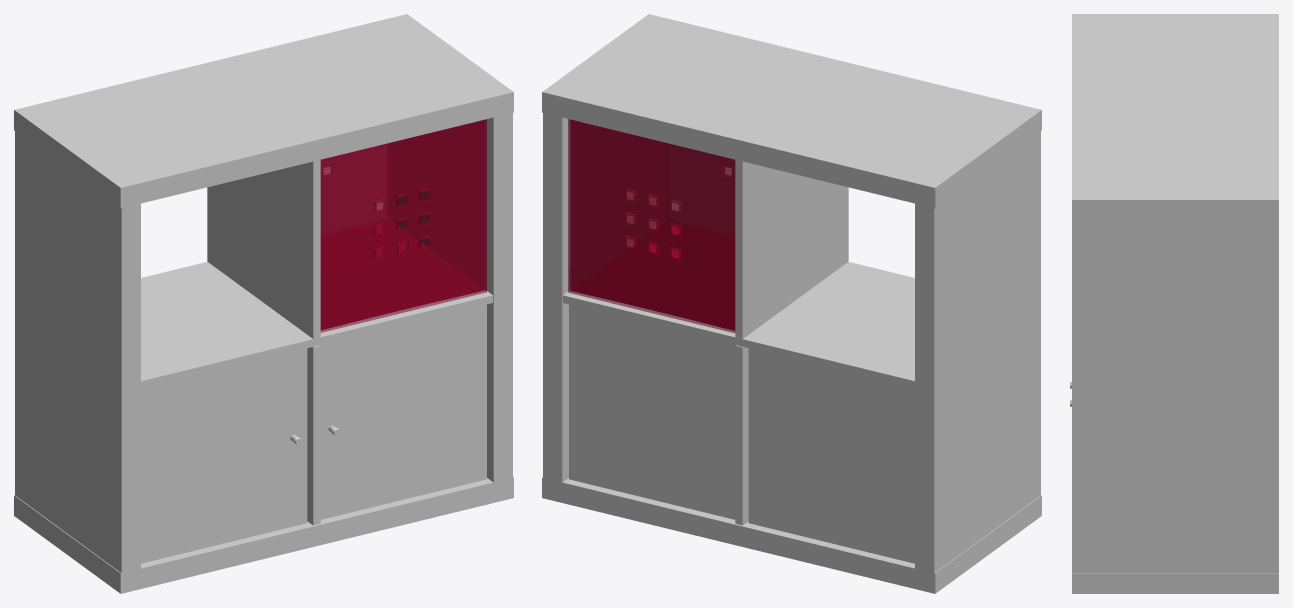
Rendered from sweethome3d-blendswap-cc-0-shelves.glb.
3 views of the same model, side by side, from view 1: azimuth 30°, elevation 25°; view 2: azimuth 150°, elevation 25°; view 3: azimuth 270°, elevation 25° (orthographic). The views are drawn at different scales.
Parts seen in each view (by area): view 1: Cube.009_Cube.010, Cube.010_Cube.011, Cube.020_Cube.021, Cube.017_Cube.016, Cube.018, Cube.012_Cube.013, Cube.013_Cube.014, Cube.008_Cube.009, Cube.011_Cube.012, Cube.014_Cube.015; view 2: Cube.009_Cube.010, Cube.010_Cube.011, Cube.020_Cube.021, Cube.017_Cube.016, Cube.018, Cube.012_Cube.013, Cube.013_Cube.014, Cube.008_Cube.009, Cube.011_Cube.012, Cube.014_Cube.015; view 3: Cube.011_Cube.012, Cube.009_Cube.010, Cube.008_Cube.009.
Boxes of the visible parts, x1,y1,x2,y2 form: Cube.009_Cube.010: [14, 14, 513, 208]; Cube.010_Cube.011: [15, 131, 140, 573]; Cube.020_Cube.021: [320, 304, 486, 519]; Cube.017_Cube.016: [141, 348, 307, 563]; Cube.018: [320, 119, 486, 332]; Cube.012_Cube.013: [141, 227, 492, 388]; Cube.013_Cube.014: [207, 160, 320, 338]; Cube.008_Cube.009: [14, 477, 513, 593]; Cube.011_Cube.012: [399, 111, 512, 482]; Cube.014_Cube.015: [307, 345, 320, 525]; Cube.009_Cube.010: [542, 14, 1041, 208]; Cube.010_Cube.011: [915, 131, 1040, 573]; Cube.020_Cube.021: [569, 304, 735, 519]; Cube.017_Cube.016: [748, 348, 914, 563]; Cube.018: [568, 119, 735, 333]; Cube.012_Cube.013: [563, 228, 914, 388]; Cube.013_Cube.014: [735, 160, 848, 338]; Cube.008_Cube.009: [542, 477, 1041, 593]; Cube.011_Cube.012: [543, 113, 655, 482]; Cube.014_Cube.015: [735, 345, 748, 525]; Cube.011_Cube.012: [1072, 220, 1278, 573]; Cube.009_Cube.010: [1072, 14, 1278, 219]; Cube.008_Cube.009: [1072, 573, 1278, 593].
Size of the model in its own units: 82.99 by 81.9 by 39.38.
